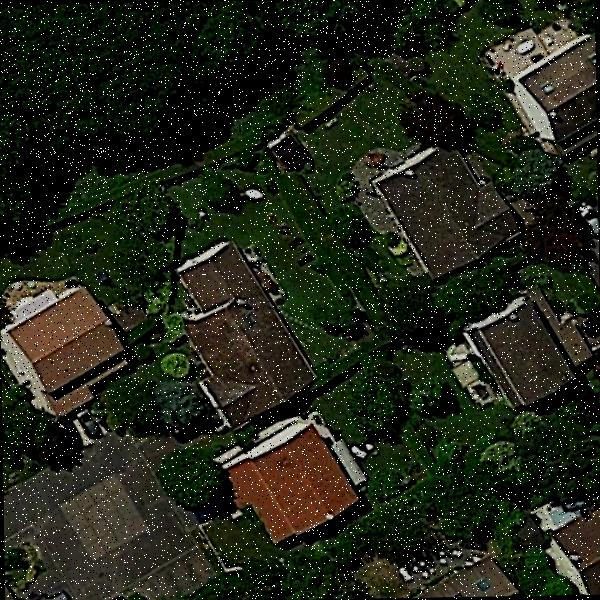Buildings: (188, 255, 309, 413), (384, 156, 500, 264), (11, 287, 113, 400), (236, 437, 350, 527), (465, 305, 564, 402), (522, 45, 597, 137), (416, 560, 526, 598), (560, 511, 600, 595), (269, 136, 304, 167)
